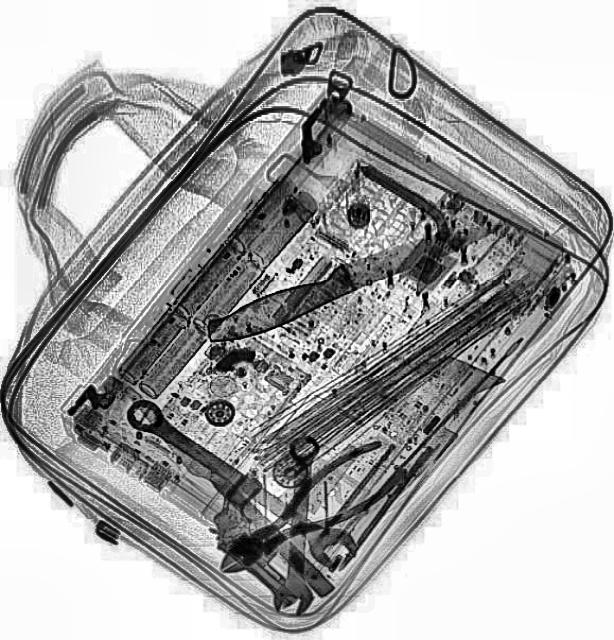Gun: (191, 468, 339, 612)
Knife: (110, 368, 334, 600), (203, 210, 506, 348)
Pliers: (199, 432, 410, 588)
Wrench: (116, 388, 366, 578), (270, 432, 326, 618)
